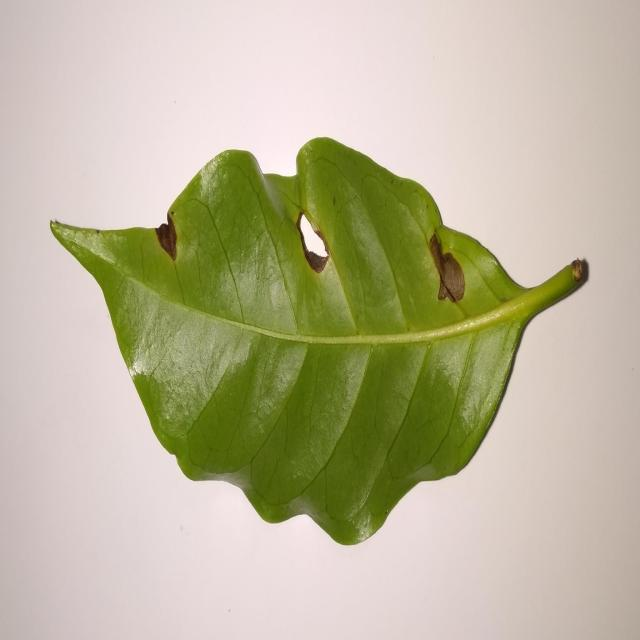Enfermedad-Antracnosis: (47, 137, 590, 549)
